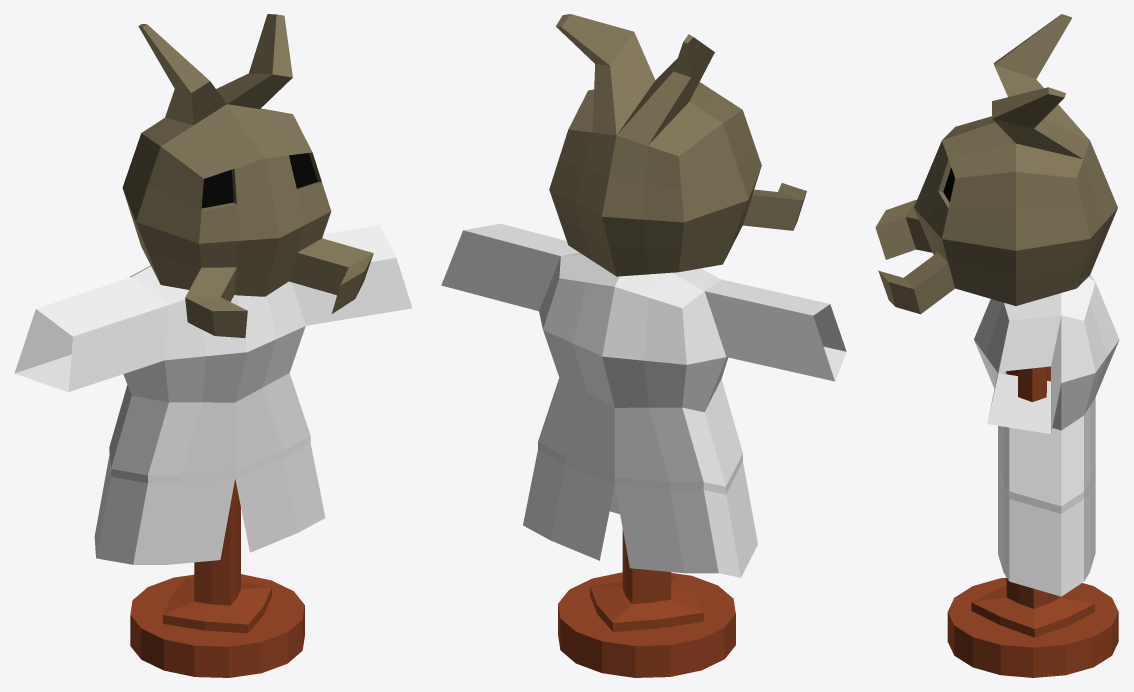
The model's file is dummy33.fbx.
The picture shows the model from 3 angles, left to right: view 1: azimuth 30°, elevation 25°; view 2: azimuth 150°, elevation 25°; view 3: azimuth 270°, elevation 25°; orthographic projection. The views are drawn at different scales.
Visible parts, largest first — view 1: Cylinder; view 2: Cylinder; view 3: Cylinder.
Part boxes in pixels (x1,y1,x2,y2): Cylinder: (14, 14, 412, 677); Cylinder: (441, 14, 846, 677); Cylinder: (875, 14, 1119, 677).
Size of the model in its own units: 98 by 150 by 55.24.
